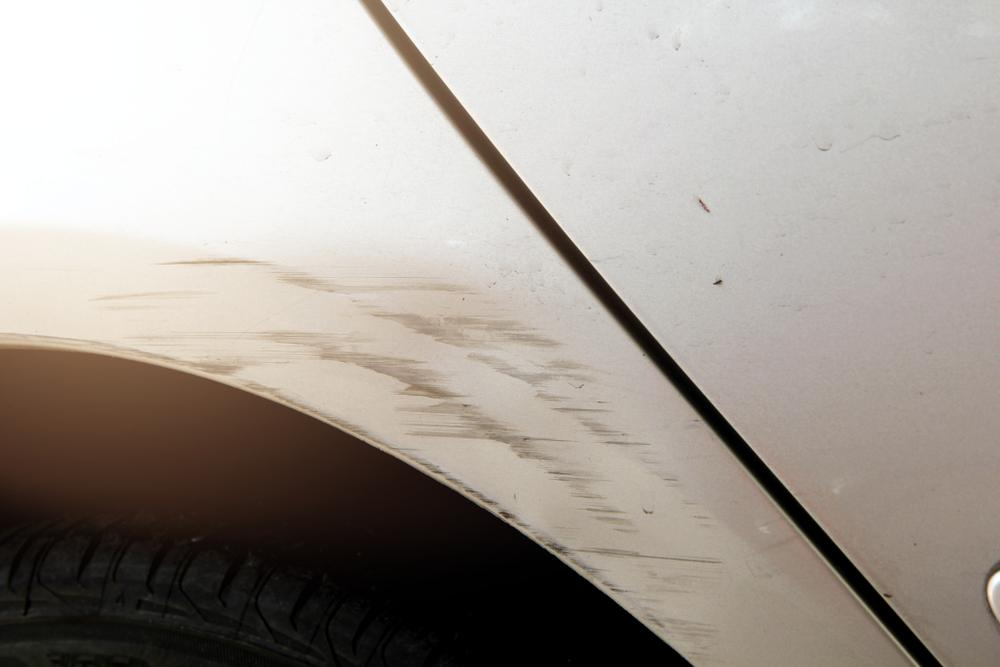scratch: (0, 250, 733, 664)
